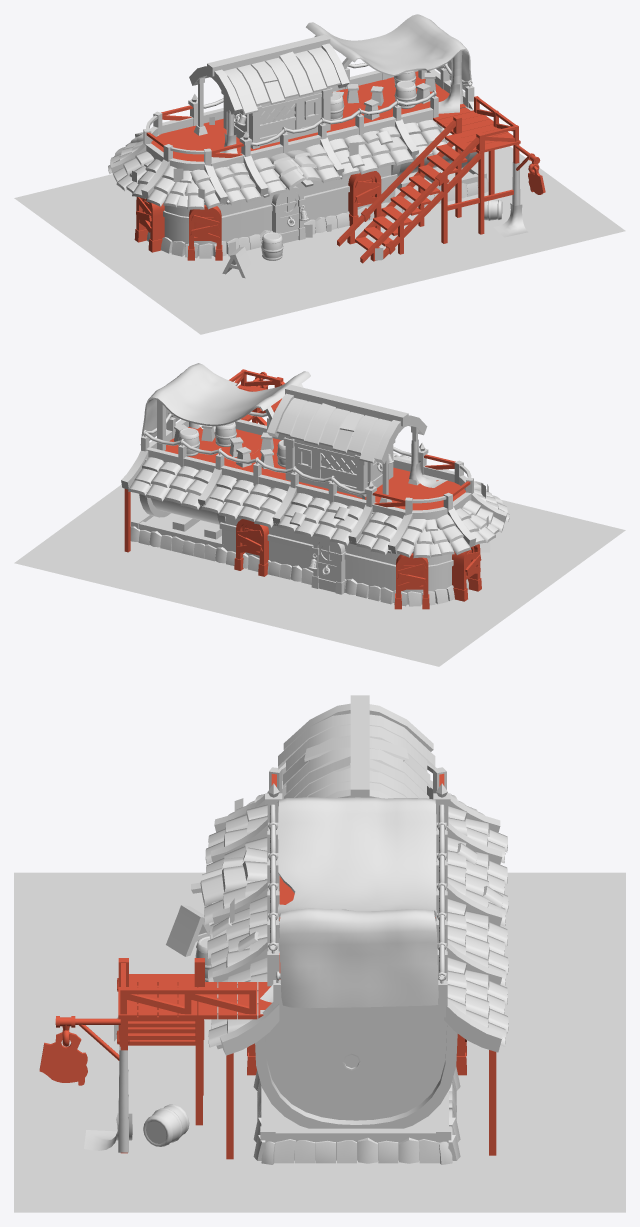
File: TotalSceneSketch_01.fbx
3 views of the same model, one above another, from view 1: azimuth 30°, elevation 25°; view 2: azimuth 150°, elevation 25°; view 3: azimuth 270°, elevation 25° (orthographic). The views are drawn at different scales.
Parts seen in each view (by area): view 1: Plane.150, Plane.001; view 2: Plane.150, Plane.001; view 3: Plane.150, Plane.001, Circle.008.
Boxes of the visible parts, x1=… form: Plane.150: x1=108, y1=14, x2=540, y2=278; Plane.001: x1=14, y1=146, x2=625, y2=334; Plane.150: x1=121, y1=363, x2=509, y2=609; Plane.001: x1=14, y1=484, x2=625, y2=666; Plane.150: x1=55, y1=695, x2=508, y2=1164; Plane.001: x1=14, y1=872, x2=625, y2=1212; Circle.008: x1=39, y1=1032, x2=87, y2=1085.
Size of the model in its own units: 890 by 364 by 677.
